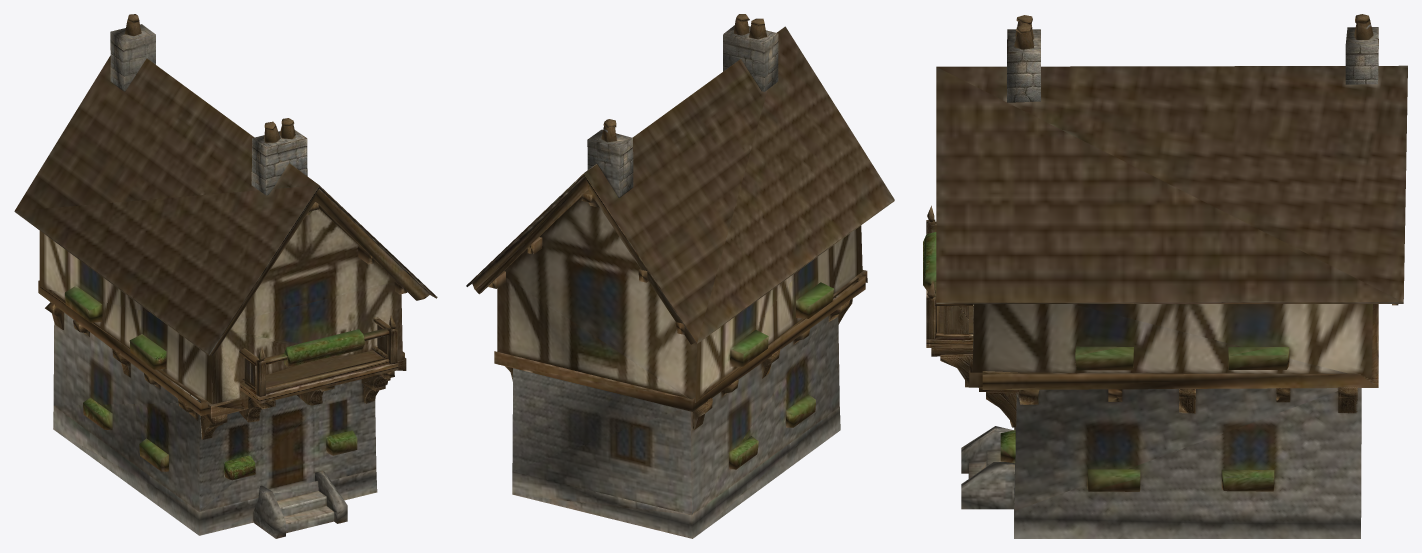
Rendered from building-cottage-03.glb.
3 views of the same model, side by side, from view 1: azimuth 30°, elevation 25°; view 2: azimuth 150°, elevation 25°; view 3: azimuth 270°, elevation 25° (orthographic). The views are drawn at different scales.
Visible parts, largest first — view 1: turn; view 2: turn; view 3: turn.
Part boxes in pixels (<box>): turn: <box>14,14,437,538</box>; turn: <box>466,14,894,538</box>; turn: <box>923,14,1407,538</box>.
Bounding box in the file's own units: 0.5762 × 0.9531 × 0.8965.
Materials: 1 (1 with a texture image).
